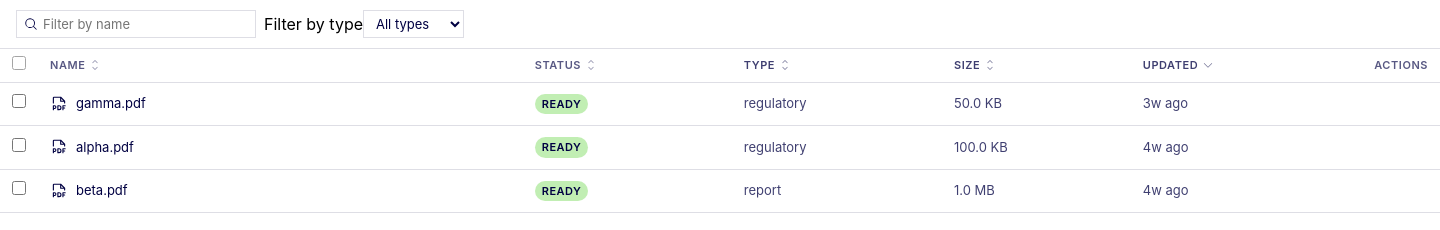
FileList › header checkbox selects/deselects all visible rows
Expected: the text "alpha.pdf" is shown, 76,138 -> 134,157
Click the checkbox named "Select all visible". click: (19, 63)
box: 12,56 -> 26,70
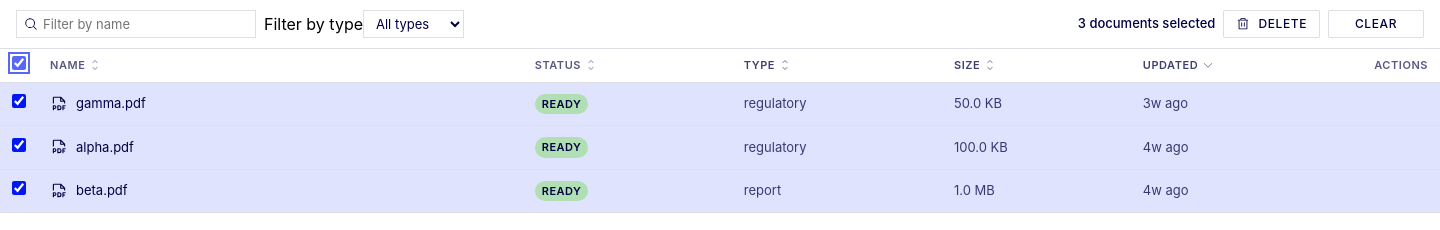
Expected: the text "3 documents selected" is shown, 1078,14 -> 1215,34
Expected: the checkbox named "Select alpha.pdf" is checked, 12,138 -> 26,152
Expected: the checkbox named "Select beta.pdf" is checked, 12,181 -> 26,195
Click the checkbox named "Deselect all visible". click: (19, 63)
box: 12,56 -> 26,70
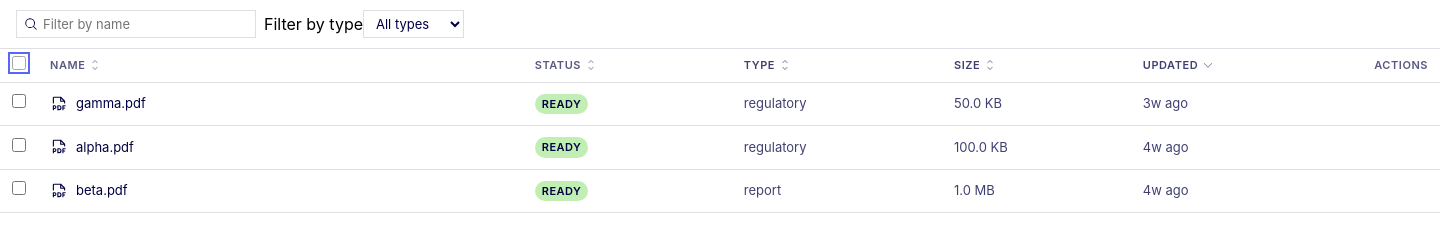
Expected: the text "documents selected" is gone
